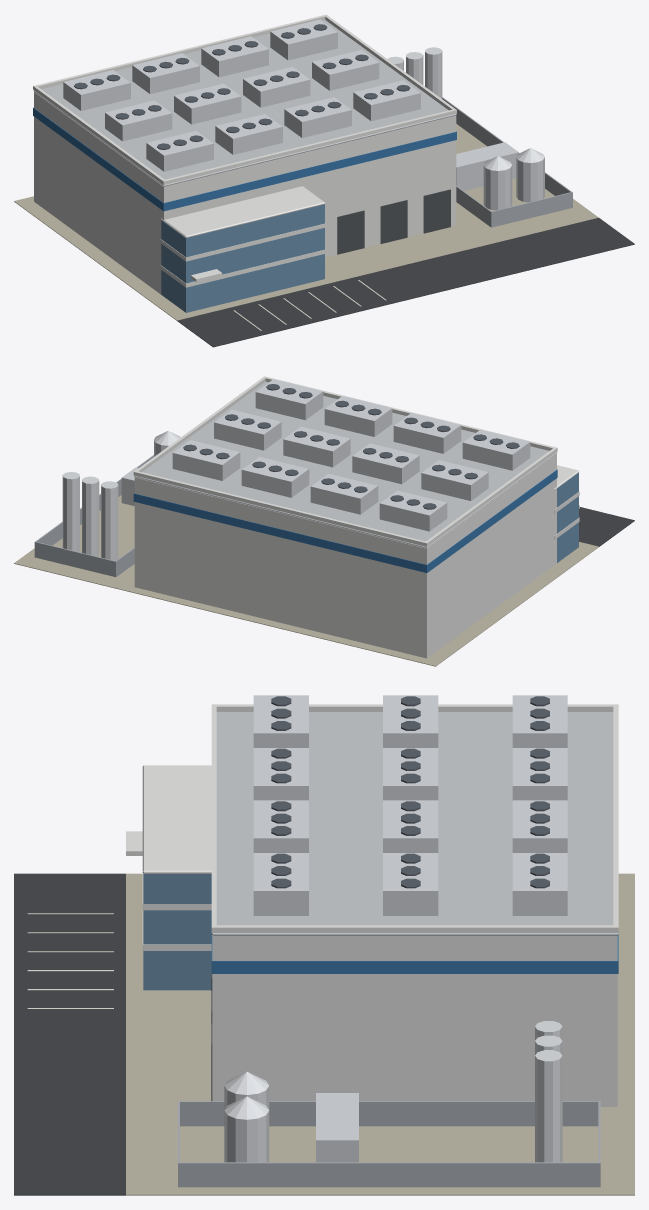
Rendered from electronics.glb.
The picture shows the model from 3 angles, top to bottom: view 1: azimuth 30°, elevation 25°; view 2: azimuth 150°, elevation 25°; view 3: azimuth 270°, elevation 25°; orthographic projection. The views are drawn at different scales.
Visible parts, largest first — view 1: electronics; view 2: electronics; view 3: electronics.
Part boxes in pixels (box(x1,y1,x2,y2)): electronics: box(14, 14, 634, 347); electronics: box(14, 376, 634, 666); electronics: box(14, 695, 634, 1195).
Size of the model in its own units: 44 by 12.92 by 36.
